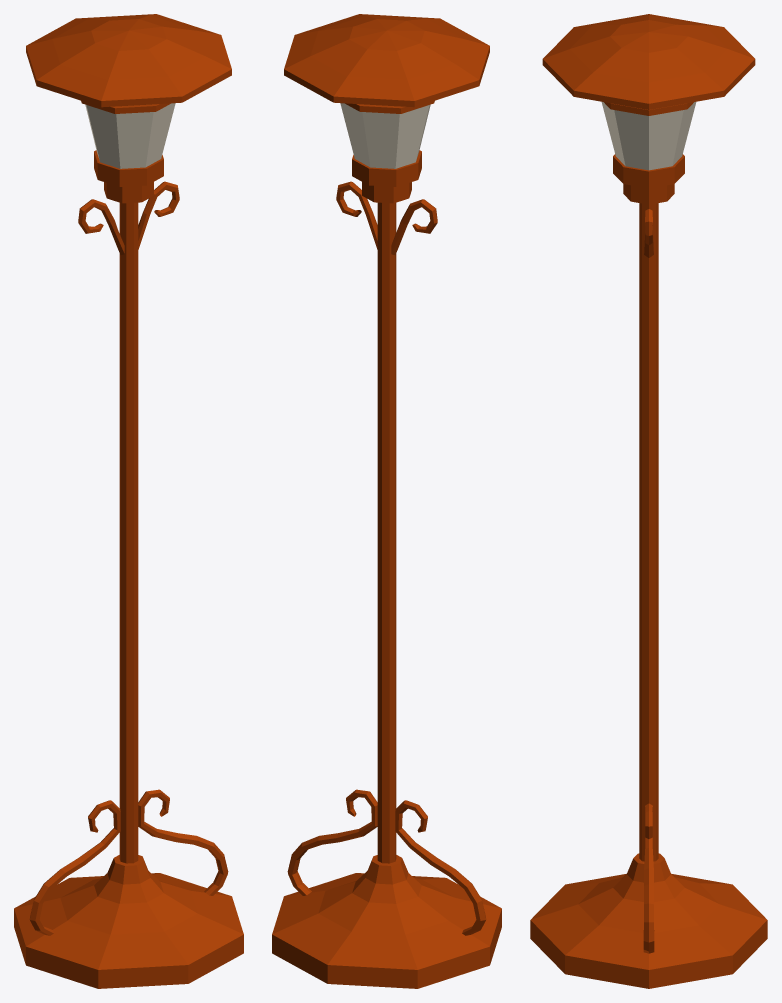
Rendered from GEO_rich_lantern_1.fbx.
3 renders of one model, left to right at view 1: azimuth 30°, elevation 25°; view 2: azimuth 150°, elevation 25°; view 3: azimuth 270°, elevation 25°, orthographic.
Visible parts, largest first — view 1: Rich_Single_Lantern, Rich_Single_Lantern_Decor_Bottom, Rich_Single_Lantern_Decor_Top; view 2: Rich_Single_Lantern, Rich_Single_Lantern_Decor_Bottom, Rich_Single_Lantern_Decor_Top; view 3: Rich_Single_Lantern, Rich_Single_Lantern_Decor_Bottom.
Boxes of the visible parts, left/top/right/bottom form: Rich_Single_Lantern: left=14, top=14, right=243, bottom=988; Rich_Single_Lantern_Decor_Bottom: left=29, top=789, right=228, bottom=935; Rich_Single_Lantern_Decor_Top: left=78, top=181, right=179, bottom=255; Rich_Single_Lantern: left=272, top=14, right=501, bottom=988; Rich_Single_Lantern_Decor_Bottom: left=287, top=789, right=486, bottom=935; Rich_Single_Lantern_Decor_Top: left=336, top=181, right=437, bottom=255; Rich_Single_Lantern: left=530, top=14, right=767, bottom=988; Rich_Single_Lantern_Decor_Bottom: left=643, top=803, right=654, bottom=953.
Size of the model in its own units: 73.35 by 309 by 73.35.
